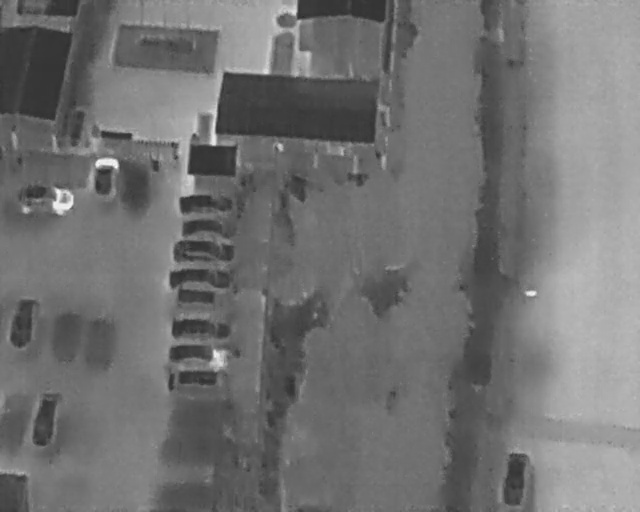Car: (499, 450, 532, 509), (18, 184, 74, 217), (30, 391, 59, 449), (7, 296, 38, 349), (168, 343, 229, 369), (172, 239, 235, 263), (90, 154, 120, 201), (171, 316, 231, 339), (168, 370, 225, 394), (168, 268, 230, 290), (179, 192, 233, 214), (182, 218, 234, 239), (177, 288, 224, 309)
